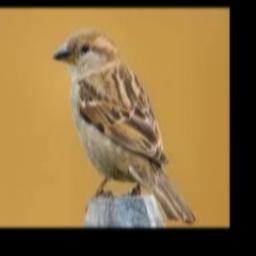Sparrow: (52, 29, 198, 222)
